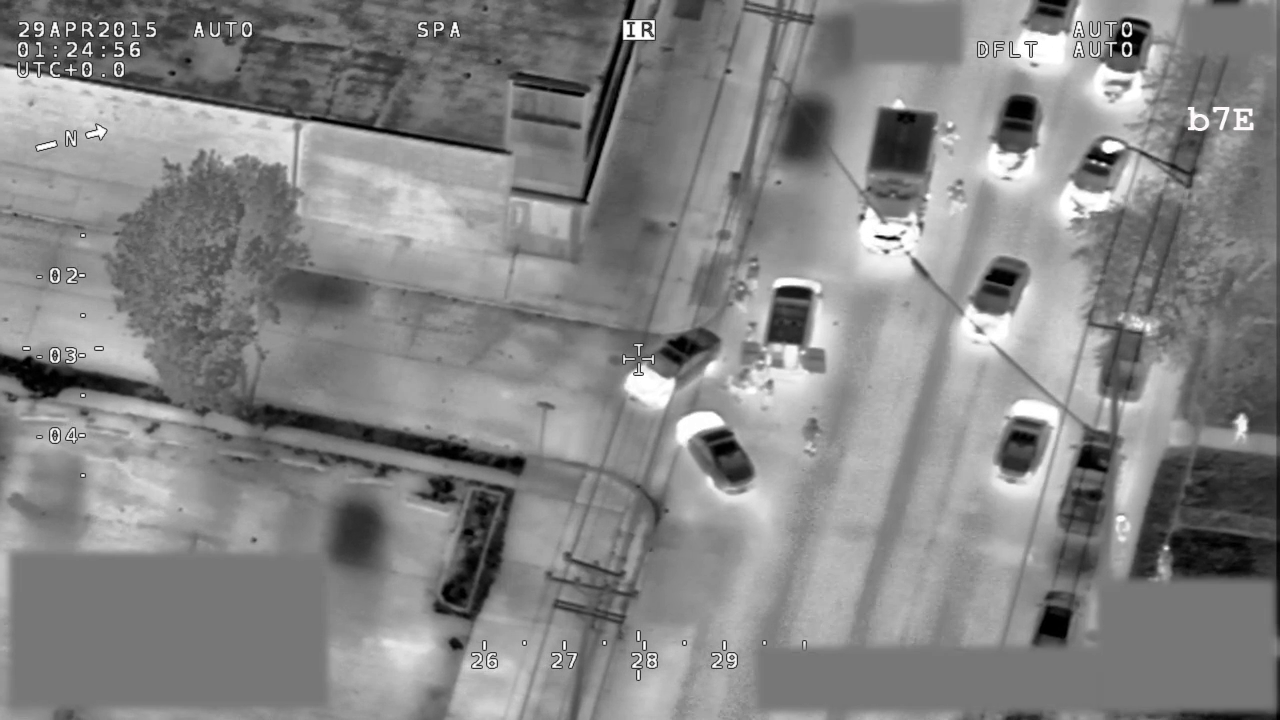vehicle: (857, 103, 943, 253), (741, 275, 833, 373), (626, 325, 727, 408), (1056, 426, 1128, 535), (676, 408, 761, 498), (1057, 135, 1132, 230), (1098, 297, 1167, 400), (960, 251, 1034, 347), (988, 397, 1064, 487), (1096, 14, 1159, 112), (986, 94, 1049, 180), (1013, 1, 1080, 71), (1032, 588, 1088, 647)
